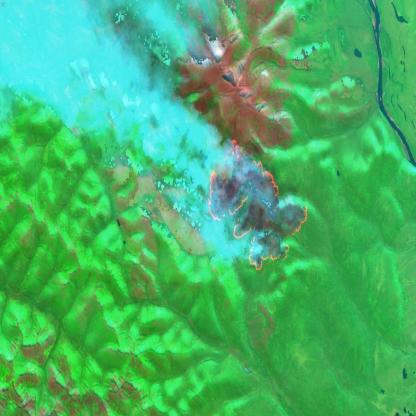fire: (204, 132, 310, 276)
